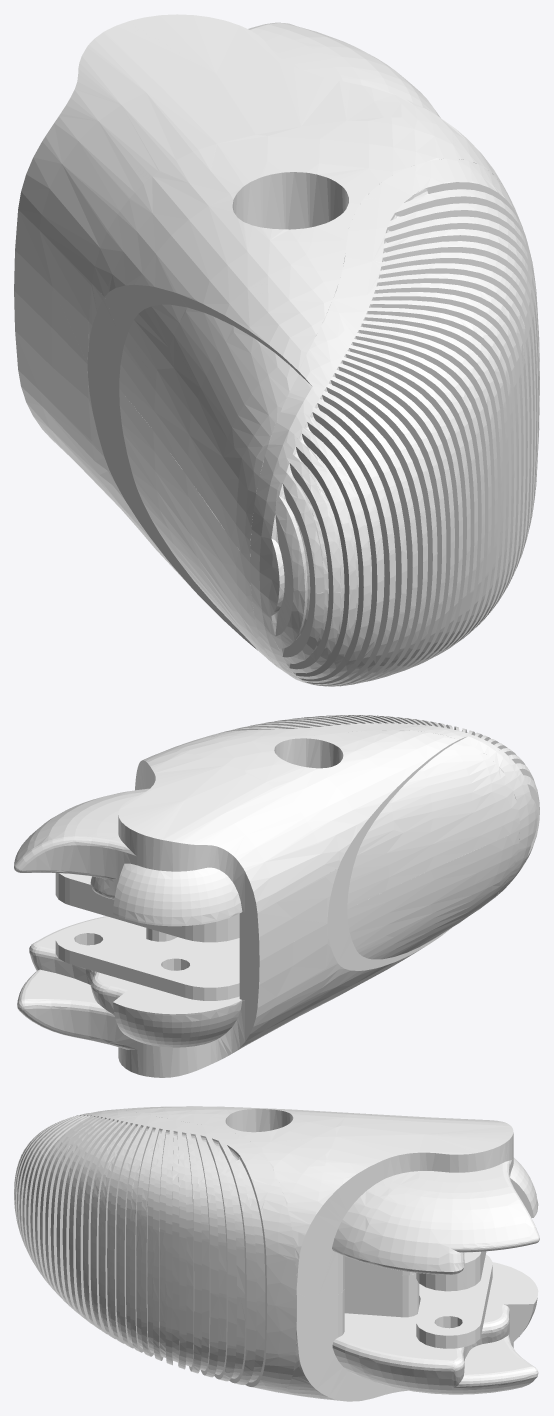
File: lh_thumb_distal_vis.obj
3 views of the same model, one above another, from view 1: azimuth 30°, elevation 25°; view 2: azimuth 150°, elevation 25°; view 3: azimuth 270°, elevation 25° (orthographic). The views are drawn at different scales.
Parts seen in each view (by area): view 1: lh_thumb_distal; view 2: lh_thumb_distal; view 3: lh_thumb_distal.
Part boxes in pixels (x1=…): lh_thumb_distal: x1=14, y1=14, x2=539, y2=686; lh_thumb_distal: x1=14, y1=715, x2=539, y2=1077; lh_thumb_distal: x1=14, y1=1106, x2=539, y2=1401.
Size of the model in its own units: 0.0235 by 0.0182 by 0.0365.
1 material, 1 textured.
